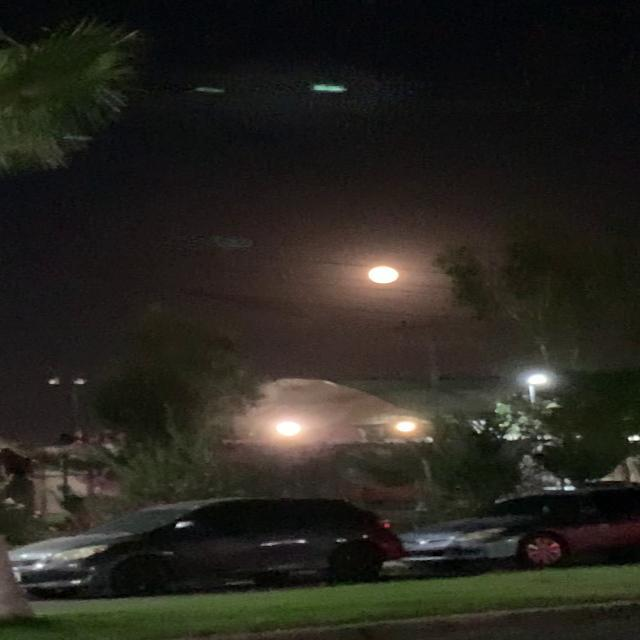moon: (352, 264, 406, 290)
